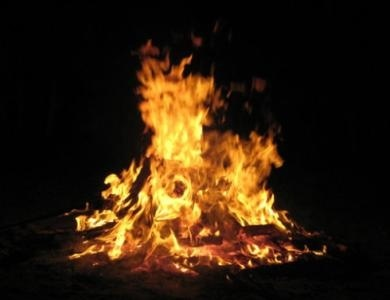fire: (80, 39, 297, 276)
